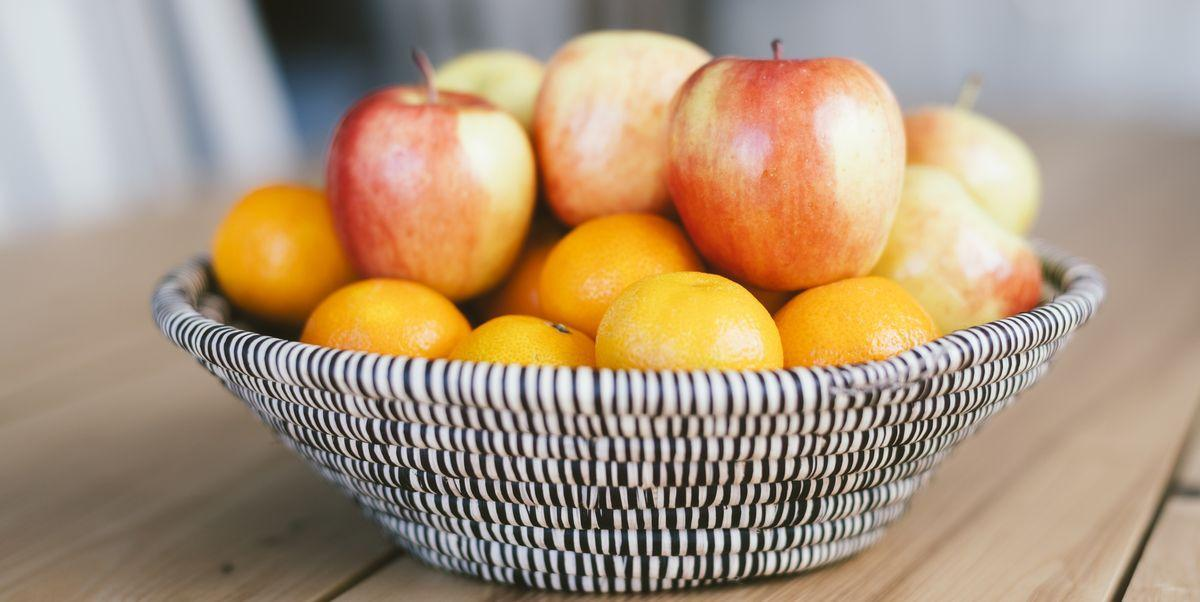apple: (663, 52, 905, 295), (323, 69, 542, 301), (533, 31, 714, 227), (870, 172, 1043, 346), (423, 49, 549, 132)
